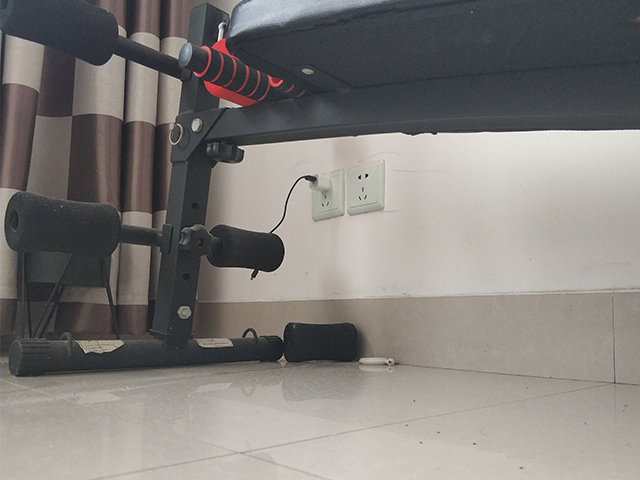curtain: (1, 1, 195, 346)
